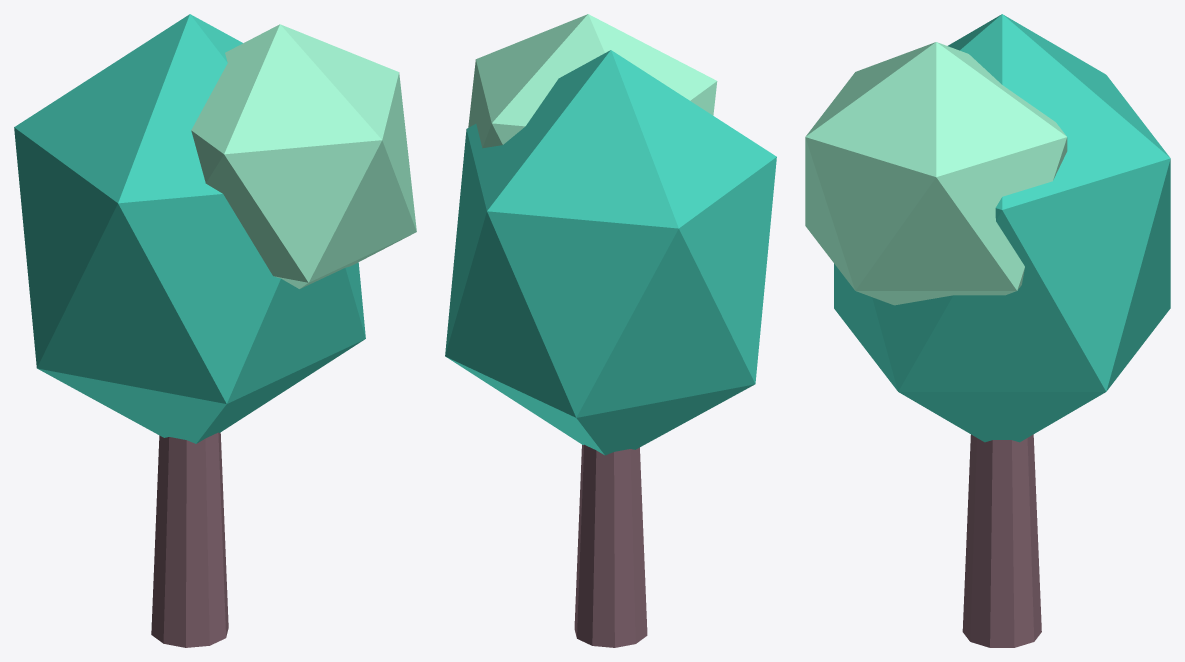
The model's file is tree.glb.
3 renders of one model, left to right at view 1: azimuth 30°, elevation 25°; view 2: azimuth 150°, elevation 25°; view 3: azimuth 270°, elevation 25°, orthographic. The views are drawn at different scales.
Parts seen in each view (by area): view 1: Canopy, Canopy light, Trunk; view 2: Canopy, Trunk, Canopy light; view 3: Canopy, Canopy light, Trunk.
Part boxes in pixels (x1=…): Canopy: x1=14, y1=14, x2=365, y2=443; Canopy light: x1=191, y1=24, x2=416, y2=288; Trunk: x1=151, y1=432, x2=228, y2=647; Canopy: x1=445, y1=50, x2=776, y2=455; Trunk: x1=574, y1=444, x2=647, y2=647; Canopy light: x1=468, y1=14, x2=717, y2=148; Canopy: x1=834, y1=14, x2=1170, y2=442; Canopy light: x1=805, y1=42, x2=1067, y2=305; Trunk: x1=962, y1=434, x2=1041, y2=647.
Size of the model in its own units: 1.73 by 3.1 by 1.66.
